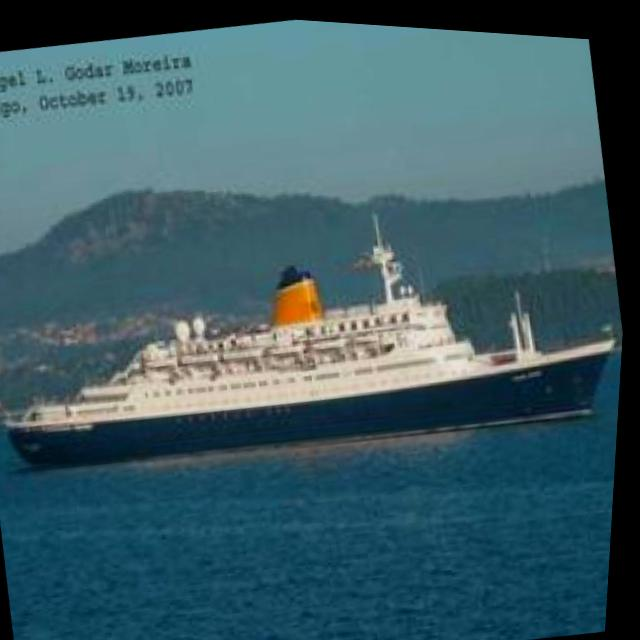ship2: (12, 207, 620, 469)
